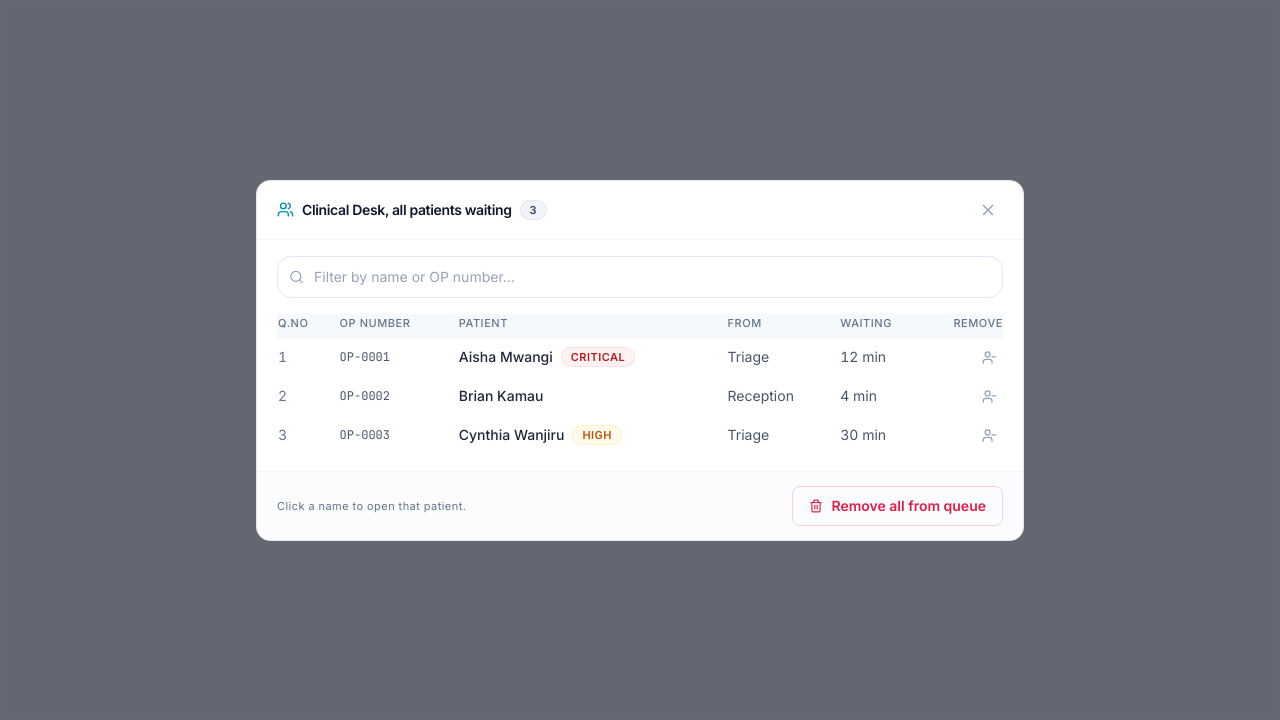
Test: filtering › narrows by name or OP number
The image size is (1280, 720).
Type "Brian" into the search field named "Filter queued patients". click: (640, 276)
box: [277,256,1003,298]
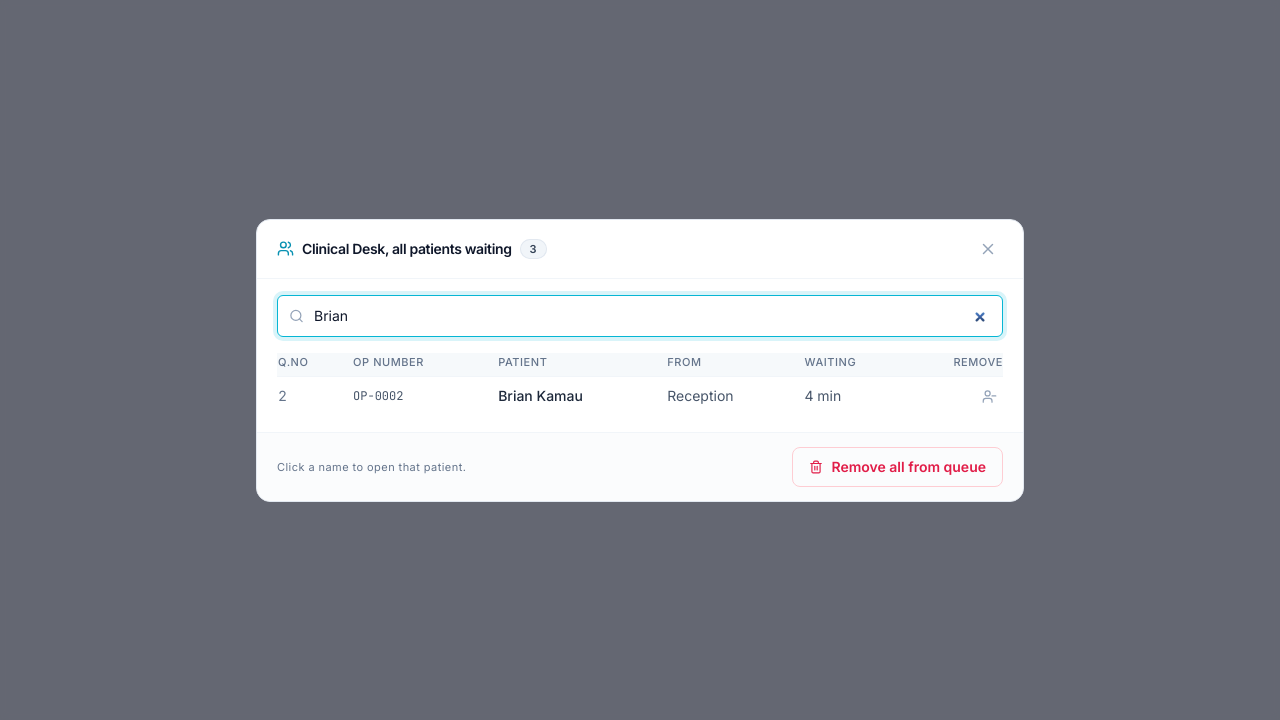
Expected: the button "Brian Kamau" is shown, [498,386,583,406]
Now the button "Aisha Mwangi" is gone
